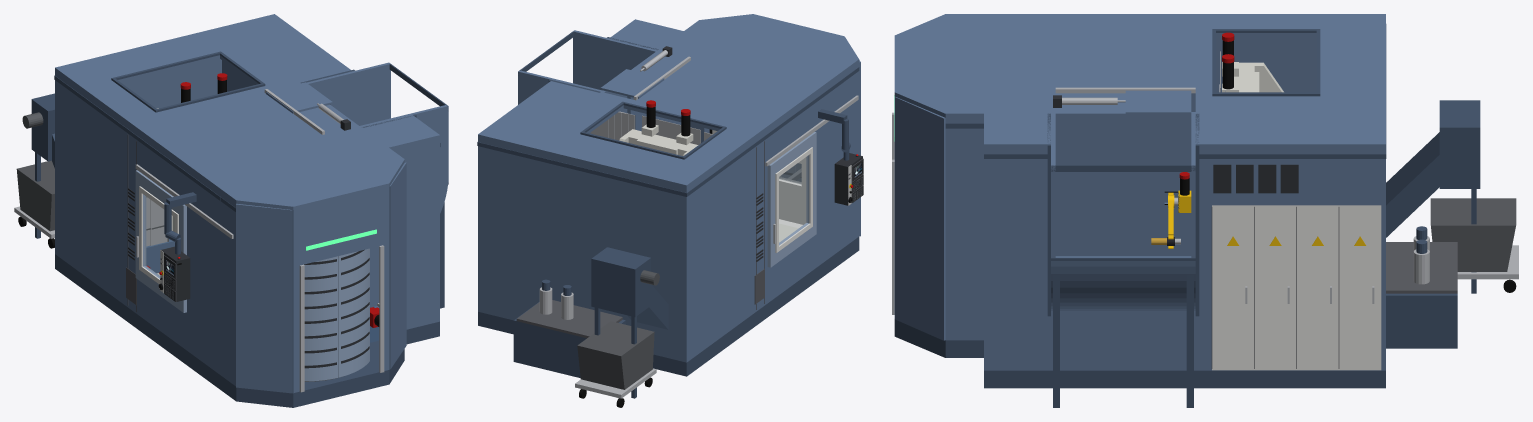
File: hmc_x800_5ax_blue_left.glb
The picture shows the model from 3 angles, left to right: view 1: azimuth 30°, elevation 25°; view 2: azimuth 150°, elevation 25°; view 3: azimuth 270°, elevation 25°; orthographic projection. The views are drawn at different scales.
Parts seen in each view (by area): view 1: enclosure__fms_blue, apc_housing__fms_blue, enclosure__fms_blue_dk, tc_box__fms_blue, apc_door_right__door_blue, apc_housing__fms_blue_dk, apc_door_left__door_blue, operator_door__door_blue, chip_cart__steel_dark, chip_coolant__fms_blue_dk, apc_housing__steel, operator_door__glass_clear (+13 smaller); view 2: enclosure__fms_blue, chip_coolant__fms_blue_dk, apc_housing__fms_blue, enclosure__fms_blue_dk, chip_cart__steel_dark, tc_box__fms_blue, operator_door__door_blue, operator_door__glass_clear, chip_coolant__anthracite_lt, apc_turntable__hmc_white, column__struct_grey, tc_door__fms_blue (+12 smaller); view 3: enclosure__fms_blue, apc_housing__fms_blue, electrical_cabinet__hmc_white, enclosure__fms_blue_dk, chip_coolant__fms_blue_dk, tc_door__fms_blue, tc_box__fms_blue, chip_cart__steel_dark, tc_box__fms_blue_dk, chip_coolant__anthracite_lt, enclosure__anthracite, apc_housing__fms_blue_dk (+6 smaller).
Boxes of the visible parts, left/top/right/bottom form: enclosure__fms_blue: left=55, top=14, right=439, bottom=374; apc_housing__fms_blue: left=220, top=147, right=406, bottom=393; enclosure__fms_blue_dk: left=54, top=51, right=440, bottom=389; tc_box__fms_blue: left=307, top=62, right=448, bottom=213; apc_door_right__door_blue: left=304, top=256, right=338, bottom=381; apc_housing__fms_blue_dk: left=220, top=197, right=404, bottom=407; apc_door_left__door_blue: left=338, top=248, right=369, bottom=377; operator_door__door_blue: left=135, top=170, right=186, bottom=312; chip_cart__steel_dark: left=16, top=160, right=54, bottom=231; chip_coolant__fms_blue_dk: left=31, top=93, right=54, bottom=238; apc_housing__steel: left=299, top=245, right=384, bottom=392; operator_door__glass_clear: left=145, top=196, right=174, bottom=276; enclosure__fms_blue: left=478, top=19, right=843, bottom=362; chip_coolant__fms_blue_dk: left=513, top=247, right=668, bottom=398; apc_housing__fms_blue: left=684, top=14, right=860, bottom=247; enclosure__fms_blue_dk: left=477, top=37, right=844, bottom=376; chip_cart__steel_dark: left=577, top=321, right=654, bottom=389; tc_box__fms_blue: left=518, top=30, right=657, bottom=104; operator_door__door_blue: left=767, top=132, right=816, bottom=267; operator_door__glass_clear: left=779, top=156, right=807, bottom=243; chip_coolant__anthracite_lt: left=516, top=300, right=622, bottom=338; apc_turntable__hmc_white: left=712, top=130, right=806, bottom=228; column__struct_grey: left=619, top=124, right=698, bottom=155; tc_door__fms_blue: left=600, top=69, right=664, bottom=112; enclosure__fms_blue: left=984, top=14, right=1385, bottom=370; apc_housing__fms_blue: left=894, top=14, right=983, bottom=340; electrical_cabinet__hmc_white: left=1212, top=205, right=1381, bottom=370; enclosure__fms_blue_dk: left=984, top=24, right=1386, bottom=388; chip_coolant__fms_blue_dk: left=1386, top=100, right=1480, bottom=348; tc_door__fms_blue: left=1125, top=90, right=1191, bottom=256; tc_box__fms_blue: left=1051, top=113, right=1195, bottom=311; chip_cart__steel_dark: left=1430, top=198, right=1516, bottom=271; tc_box__fms_blue_dk: left=1051, top=165, right=1195, bottom=407; chip_coolant__anthracite_lt: left=1386, top=242, right=1457, bottom=293; enclosure__anthracite: left=1053, top=95, right=1298, bottom=193; apc_housing__fms_blue_dk: left=894, top=123, right=983, bottom=357.
Size of the model in its own units: 4.54 by 3.22 by 6.98.
Materials: 22 (2 with a texture image).
